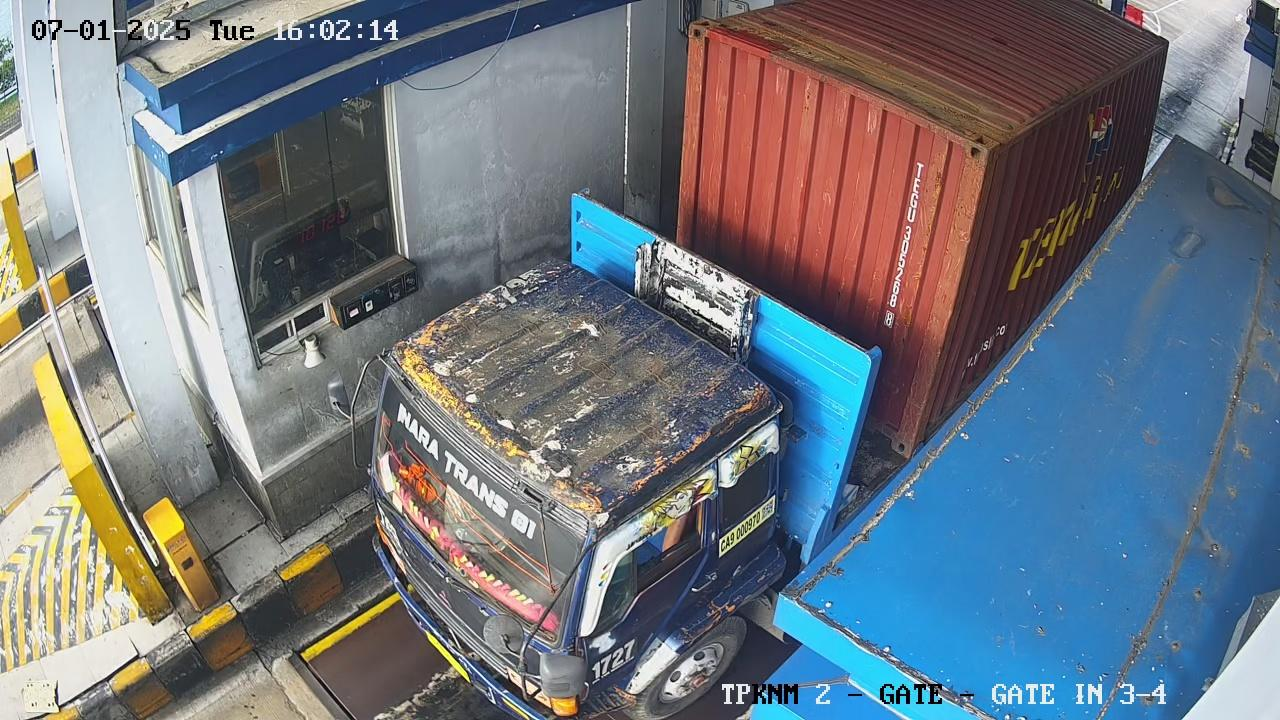Container_ID_Vertikal: (881, 161, 925, 328)
truck_id: (718, 496, 775, 556), (587, 635, 637, 684)
